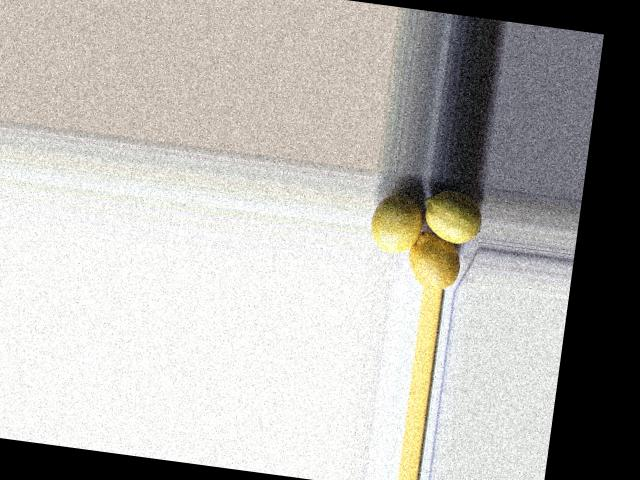lemon: (367, 186, 422, 256)
